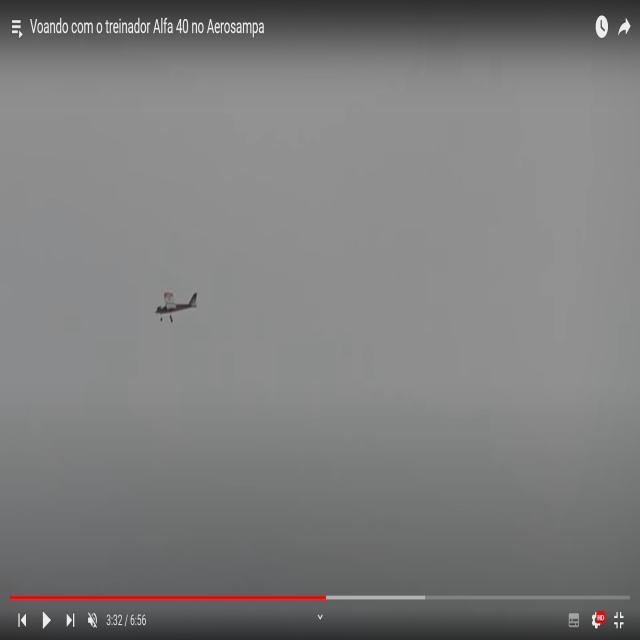iha: (154, 290, 199, 323)
